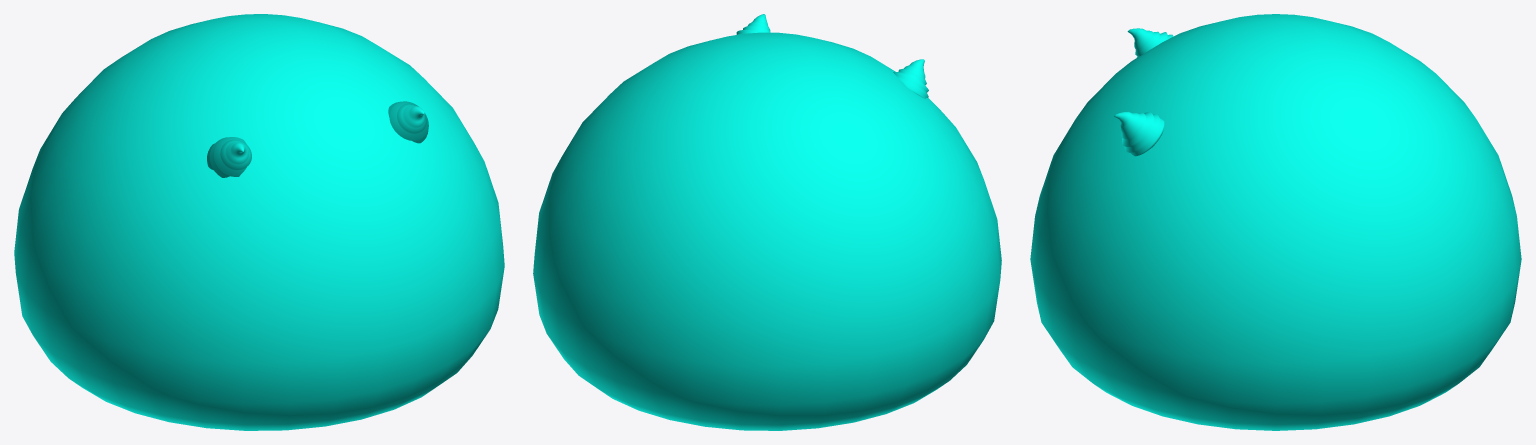
File: prototyp_slima1.fbx
3 views of the same model, side by side, from view 1: azimuth 30°, elevation 25°; view 2: azimuth 150°, elevation 25°; view 3: azimuth 270°, elevation 25° (orthographic). The views are drawn at different scales.
Visible parts, largest first — view 1: Sphere; view 2: Sphere; view 3: Sphere.
Part boxes in pixels (x1,y1,x2,y2): Sphere: (14,14,504,430); Sphere: (533,14,1001,430); Sphere: (1030,14,1521,430).
Bounding box in the file's own units: 200 × 138 × 200.
